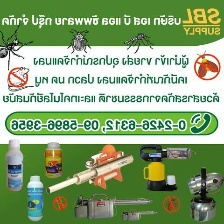insecticide: (3, 137, 25, 193), (25, 173, 45, 223), (43, 140, 64, 179)
